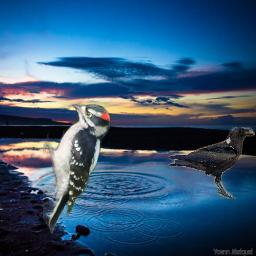Crow: (168, 127, 255, 199)
Woodpecker: (43, 100, 112, 234)
